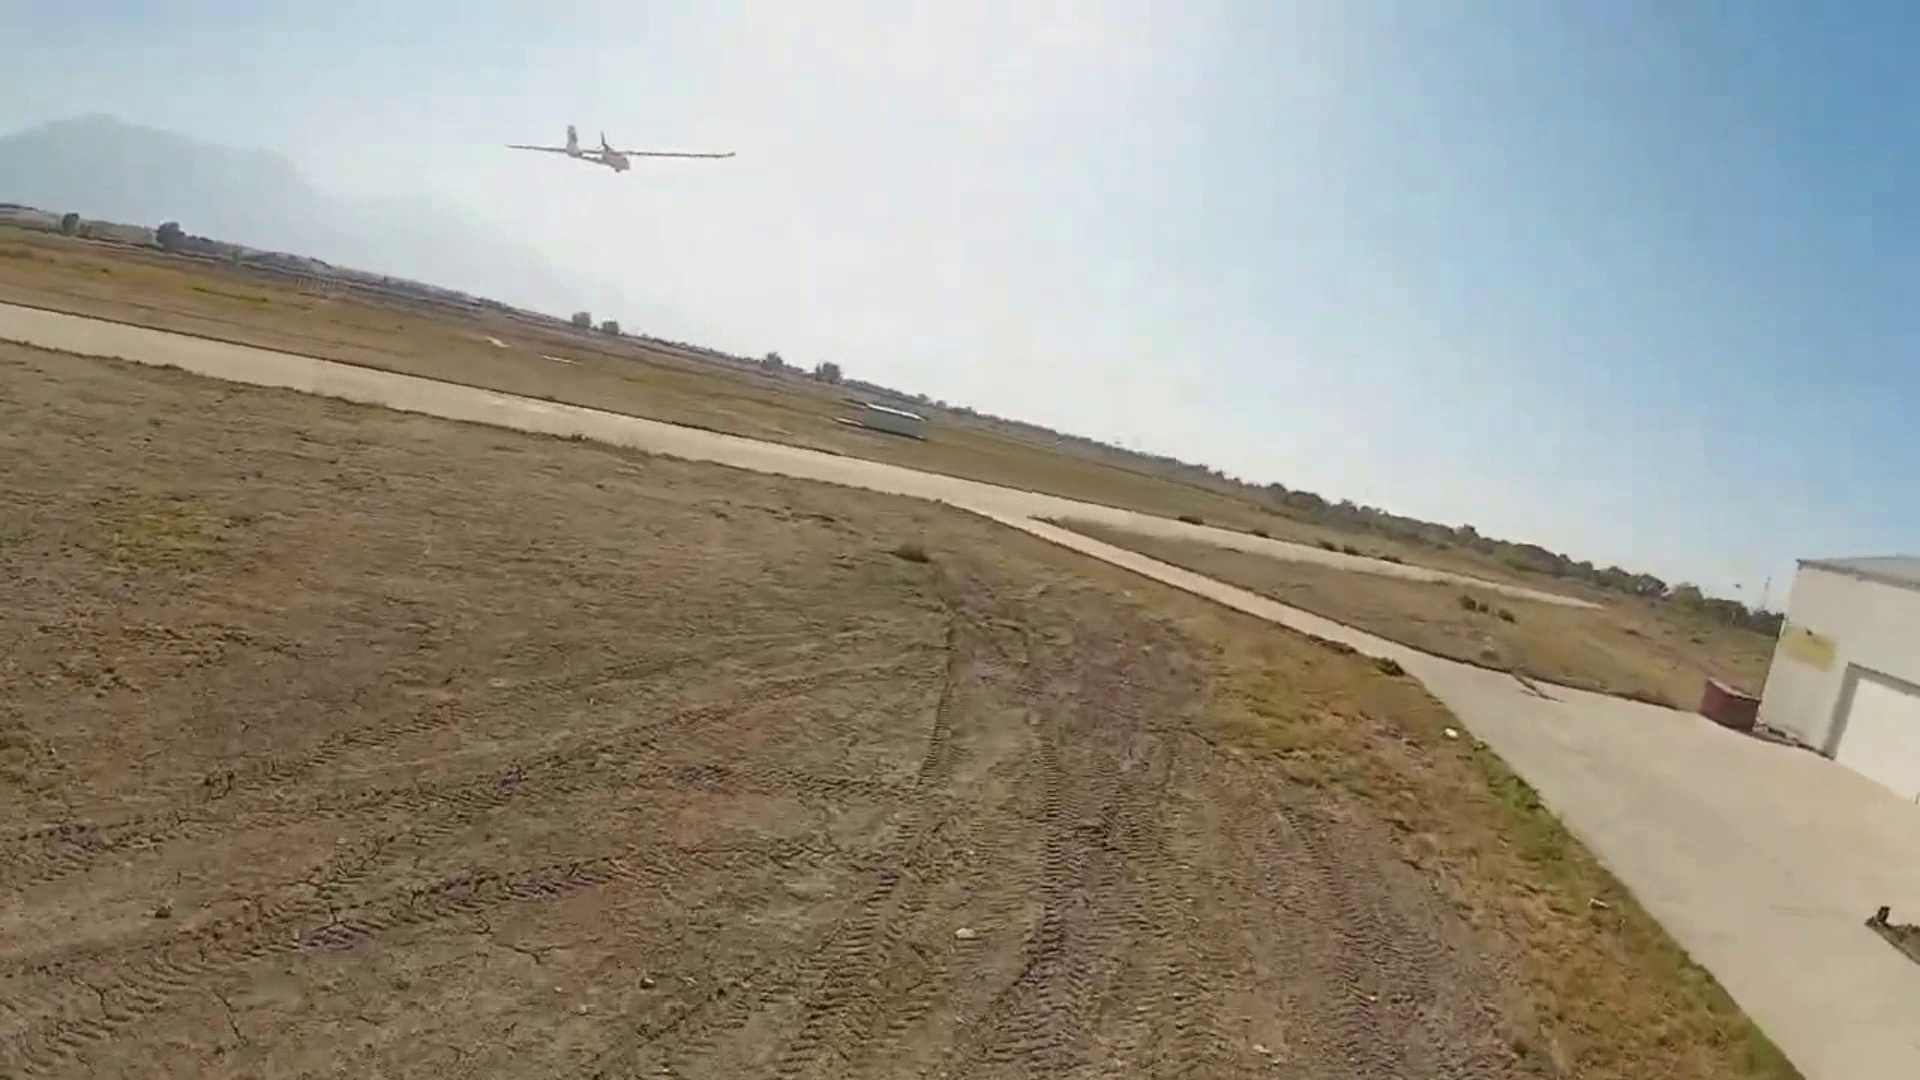airplane: (504, 124, 738, 174)
